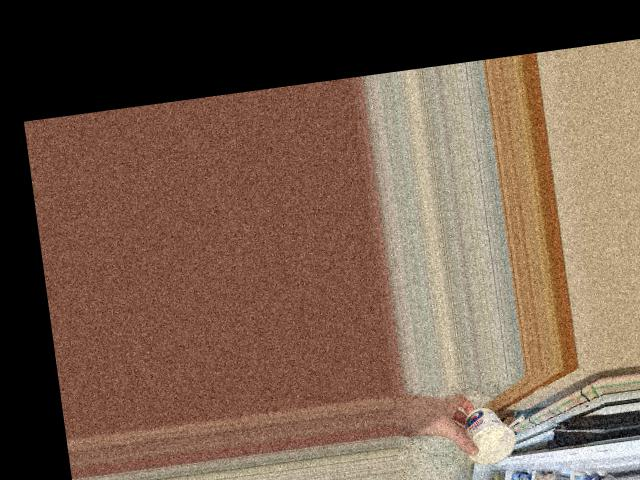cotage: (456, 401, 524, 467)
